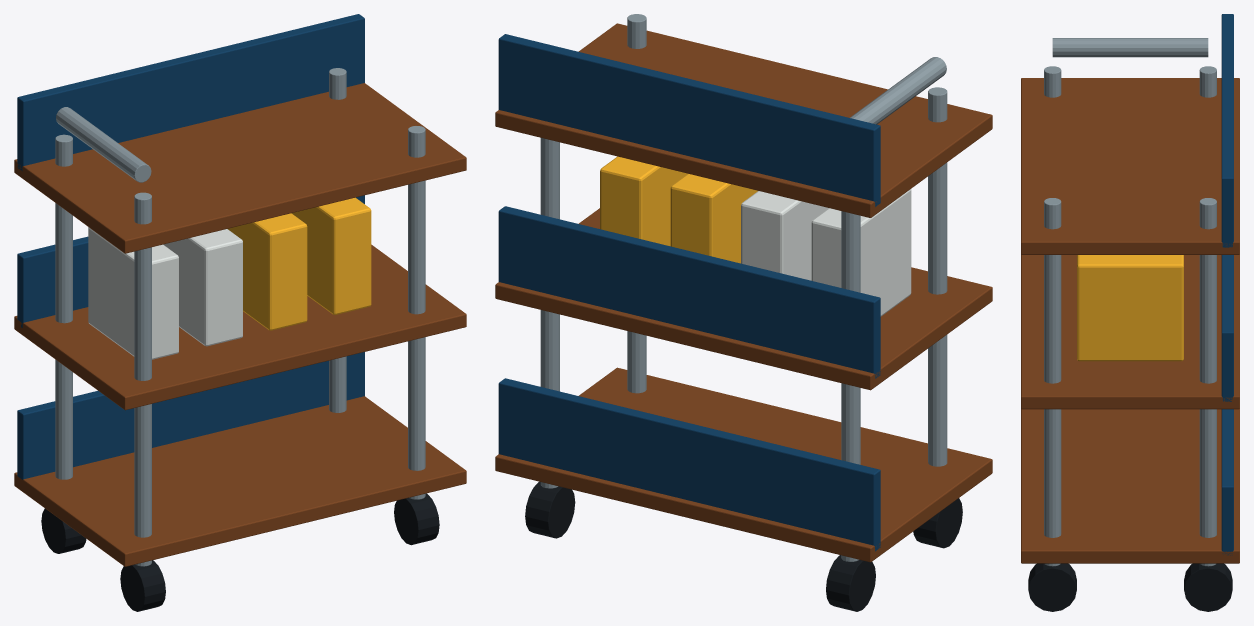
3 views of the same model, side by side, from view 1: azimuth 30°, elevation 25°; view 2: azimuth 150°, elevation 25°; view 3: azimuth 270°, elevation 25° (orthographic). The views are drawn at different scales.
Parts seen in each view (by area): view 1: SHELF_Deck.002, SHELF_Deck, SHELF_Back.002, SHELF_Deck.001, SHELF_Back, BOOK_Volume.001, BOOK_Volume.003, BOOK_Volume, BOOK_Volume.002, POST.002, POST, POST.001 (+6 smaller); view 2: SHELF_Back, SHELF_Back.001, SHELF_Back.002, SHELF_Deck, SHELF_Deck.002, SHELF_Deck.001, BOOK_Volume.001, POST, BOOK_Volume, BOOK_Volume.002, BOOK_Volume.003, POST.001 (+6 smaller); view 3: SHELF_Deck.002, SHELF_Deck, SHELF_Deck.001, BOOK_Volume, POST.002, POST.003, HANDLE, SHELF_Back.002, CASTER, CASTER.003, SHELF_Back.001, SHELF_Back (+2 smaller).
Part boxes in pixels (x1,y1,x2,y2): SHELF_Deck.002: [14, 83, 466, 253]; SHELF_Deck: [14, 396, 466, 566]; SHELF_Back.002: [17, 14, 364, 171]; SHELF_Deck.001: [14, 244, 466, 410]; SHELF_Back: [17, 352, 364, 479]; BOOK_Volume.001: [88, 227, 178, 359]; BOOK_Volume.003: [227, 213, 307, 330]; BOOK_Volume: [291, 197, 371, 314]; BOOK_Volume.002: [163, 229, 242, 346]; POST.002: [408, 126, 425, 499]; POST: [134, 192, 151, 566]; POST.001: [55, 134, 72, 479]; SHELF_Back: [498, 378, 880, 551]; SHELF_Back.001: [498, 206, 880, 378]; SHELF_Back.002: [498, 34, 880, 206]; SHELF_Deck: [495, 367, 992, 562]; SHELF_Deck.002: [495, 23, 992, 217]; SHELF_Deck.001: [495, 208, 992, 390]; BOOK_Volume.001: [811, 189, 911, 316]; POST: [928, 87, 947, 466]; BOOK_Volume: [600, 156, 687, 246]; BOOK_Volume.002: [741, 191, 828, 280]; BOOK_Volume.003: [670, 173, 757, 263]; POST.001: [841, 211, 860, 561]; SHELF_Deck.002: [1021, 78, 1239, 254]; SHELF_Deck: [1021, 409, 1239, 563]; SHELF_Deck.001: [1021, 254, 1239, 409]; BOOK_Volume: [1077, 255, 1183, 361]; POST.002: [1044, 198, 1061, 566]; POST.003: [1199, 198, 1216, 566]; HANDLE: [1052, 38, 1208, 57]; SHELF_Back.002: [1221, 14, 1233, 247]; CASTER: [1184, 563, 1232, 611]; CASTER.003: [1028, 563, 1076, 611]; SHELF_Back.001: [1221, 255, 1233, 401]; SHELF_Back: [1221, 409, 1233, 555].
Size of the model in its own units: 0.8 by 1.01 by 0.45.
